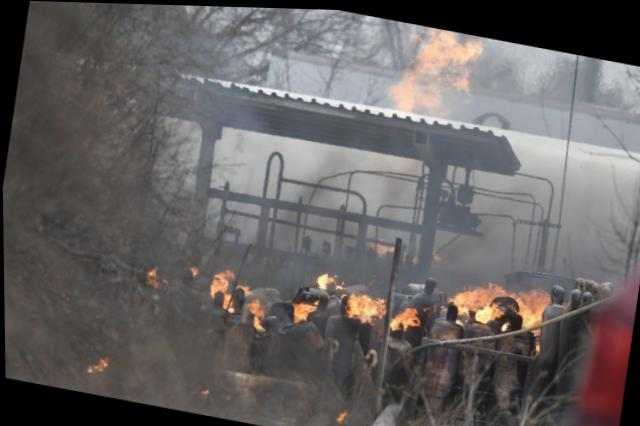fire: (410, 22, 476, 82), (484, 275, 551, 302), (392, 73, 427, 108), (346, 291, 388, 319), (451, 284, 497, 308), (390, 302, 420, 328), (209, 265, 233, 297), (424, 78, 444, 115), (87, 352, 109, 378), (290, 301, 315, 322), (519, 301, 541, 324), (248, 296, 261, 321), (313, 270, 329, 289), (474, 307, 488, 320)
smoke: (0, 0, 154, 339), (205, 115, 469, 292), (461, 35, 639, 285), (141, 3, 401, 101), (122, 353, 297, 421), (103, 298, 253, 360), (157, 66, 257, 120), (4, 324, 83, 384)
